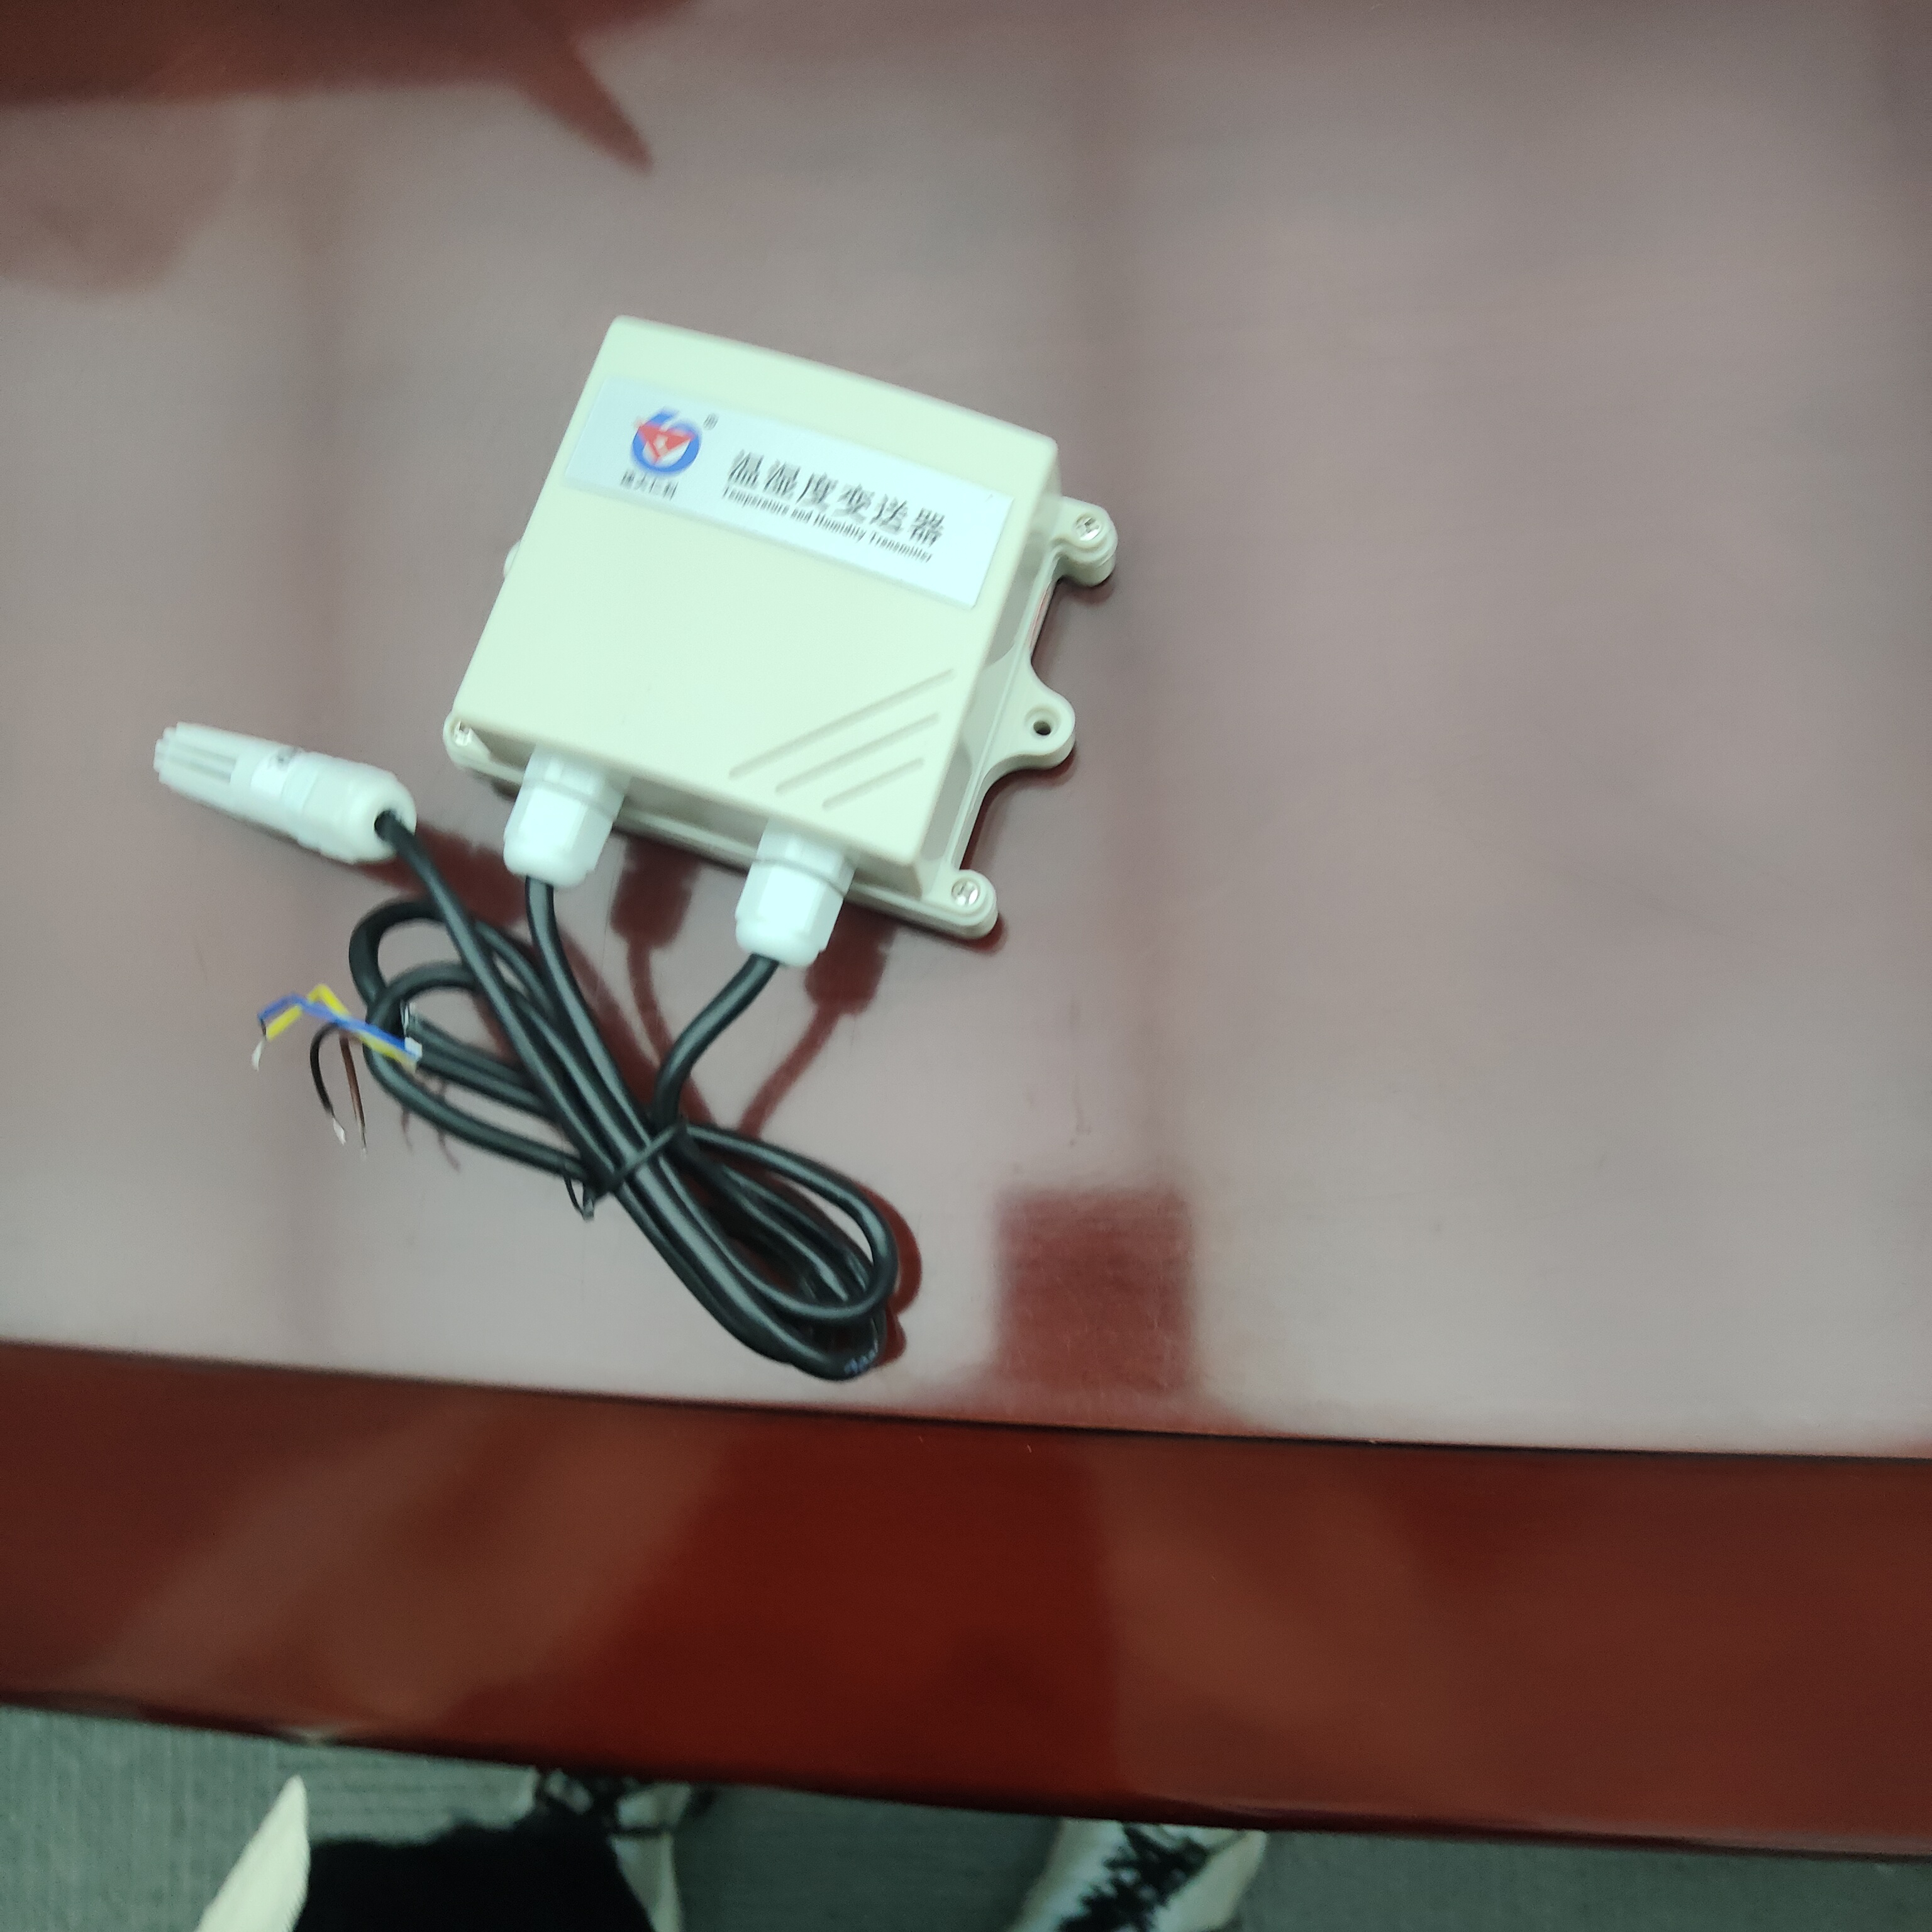wsdbsq: (403, 288, 1171, 993)
